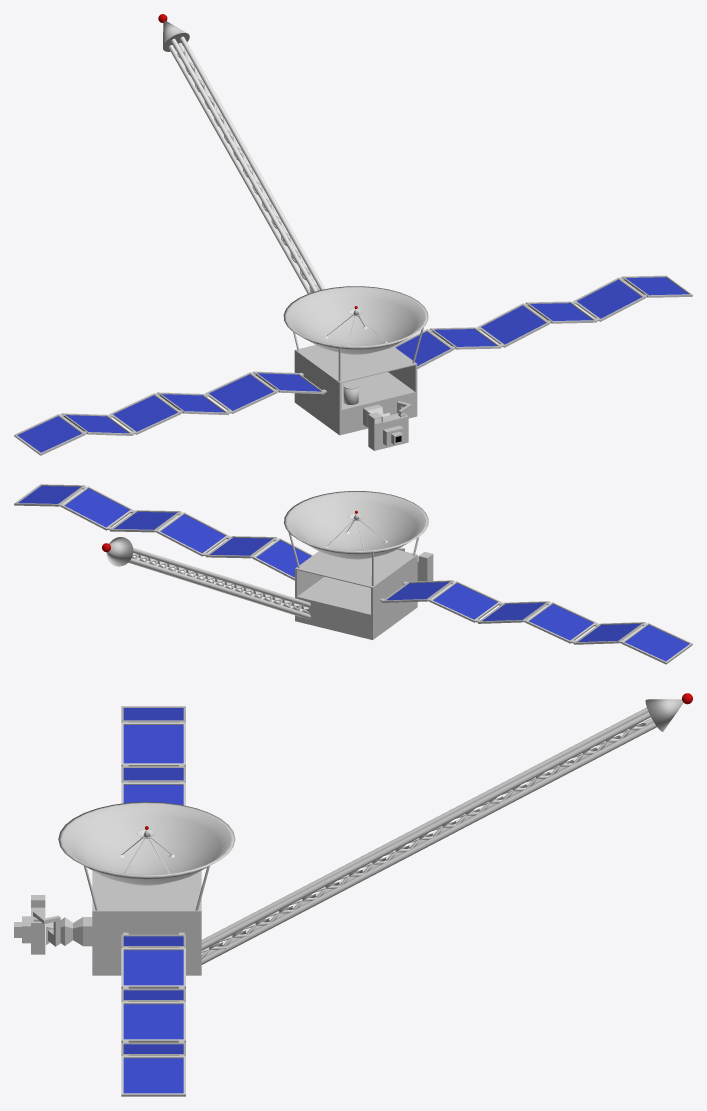
Rendered from Voyager_probe.fbx.
The picture shows the model from 3 angles, top to bottom: view 1: azimuth 30°, elevation 25°; view 2: azimuth 150°, elevation 25°; view 3: azimuth 270°, elevation 25°; orthographic projection. The views are drawn at different scales.
Parts seen in each view (by area): view 1: Cube.002, Cube, Cylinder, Cylinder.004, Cube.001; view 2: Cube.002, Cube, Cylinder, Cylinder.004, Cone, Cube.001; view 3: Cube.002, Cylinder.004, Cylinder, Cube, Cube.003, Cube.001, Cone.
Boxes of the visible parts, box(x1,y1,x2,y2) form: Cube.002: box(14, 275, 692, 455); Cube: box(294, 345, 417, 435); Cylinder: box(283, 286, 428, 354); Cylinder.004: box(168, 36, 324, 293); Cube.001: box(368, 412, 408, 450); Cube.002: box(14, 484, 692, 664); Cube: box(295, 549, 417, 639); Cylinder: box(284, 491, 428, 559); Cylinder.004: box(128, 548, 310, 619); Cone: box(102, 537, 133, 566); Cube.001: box(417, 552, 433, 581); Cube.002: box(121, 706, 185, 1096); Cylinder.004: box(201, 707, 656, 964); Cylinder: box(58, 802, 235, 885); Cube: box(92, 870, 201, 975); Cube.003: box(33, 911, 92, 946); Cube.001: box(14, 895, 45, 954); Cone: box(645, 693, 692, 731).
Bounding box in the file's own units: 1679 × 556 × 1241.
